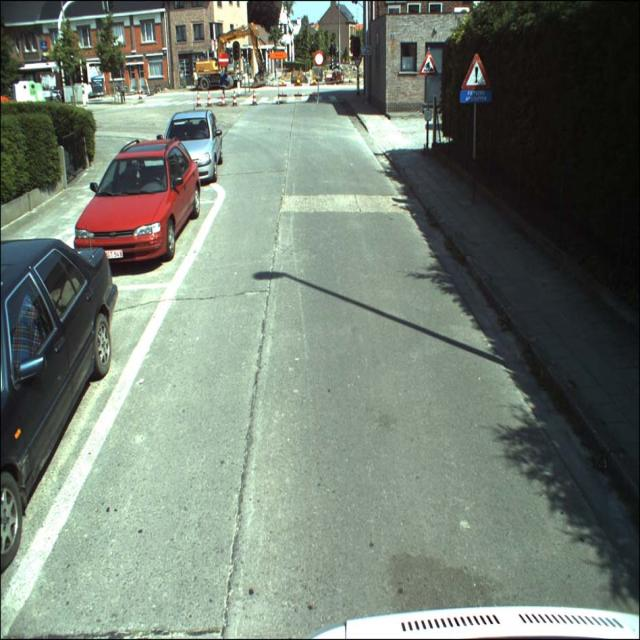girisyok: (218, 52, 229, 66)
